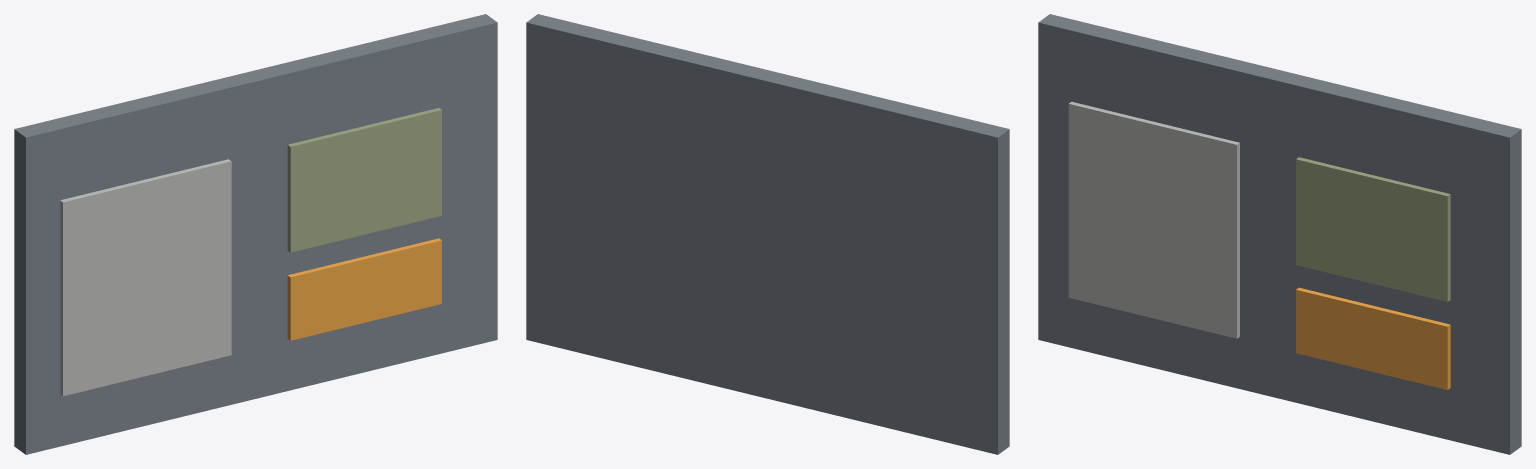
The model's file is mech-hangar-and-battle-frames-notice-wall-a12be550__26998.glb.
3 views of the same model, side by side, from view 1: azimuth 30°, elevation 25°; view 2: azimuth 150°, elevation 25°; view 3: azimuth 330°, elevation 25° (orthographic).
Parts seen in each view (by area): view 1: notice-wall; view 2: notice-wall; view 3: notice-wall.
Boxes of the visible parts, bbox=[...] form: notice-wall: bbox=[14, 14, 497, 454]; notice-wall: bbox=[526, 14, 1009, 454]; notice-wall: bbox=[1038, 14, 1521, 454].
Bounding box in the file's own units: 1.4 × 0.9001 × 0.0775.
